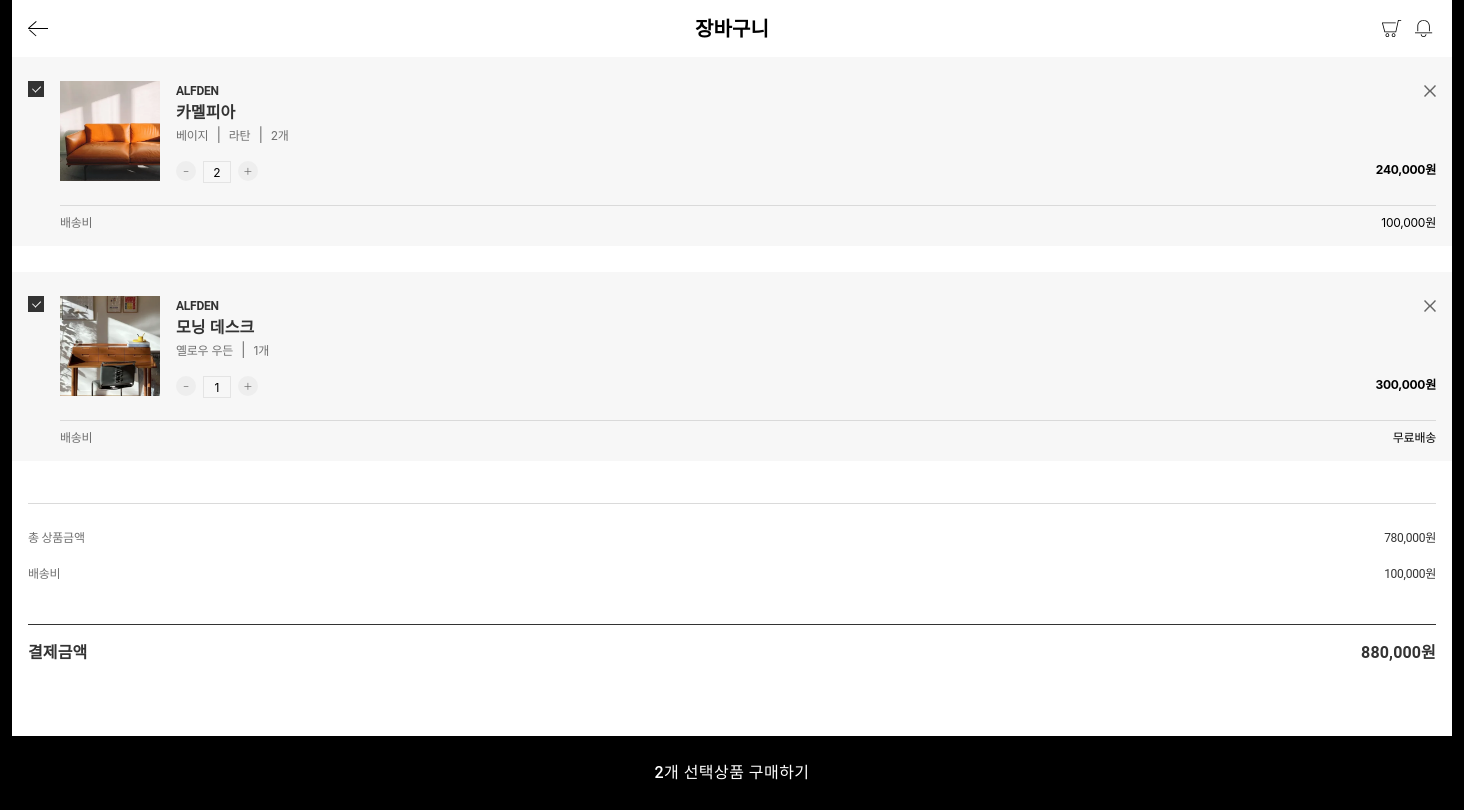
Scenario: 수량 + → 결제금액·수량 표시 갱신, 버튼 숫자는 종류 수 그대로
The image size is (1464, 810).
Click the button "+" in the row of "240,000" at (248, 171), box [238,161,258,181]
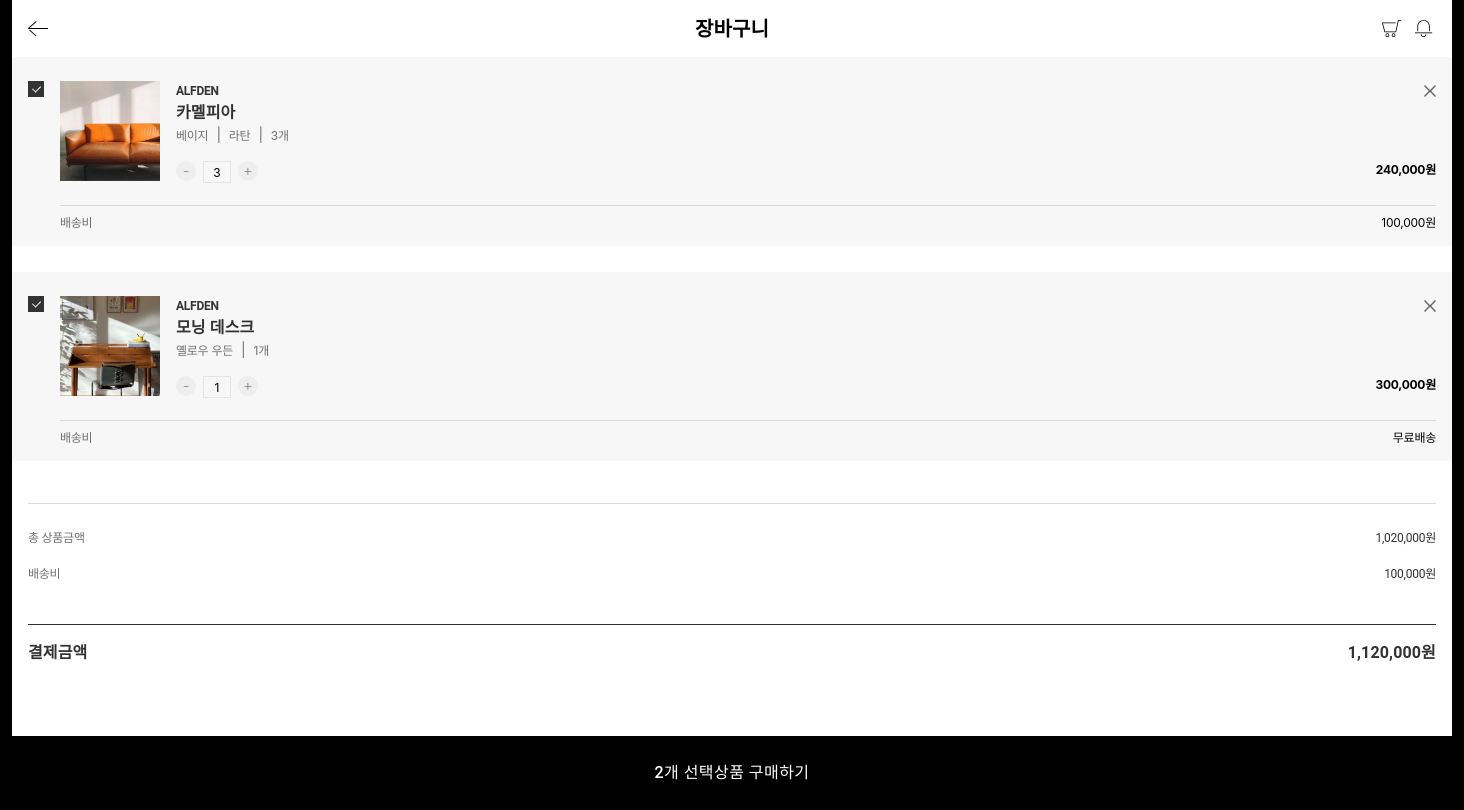
Expected: the button "2개 선택상품 구매하기" is shown, [12,736,1452,809]
Result: the text with test id "cart-total" reads "1,120,000원" at [1348,643,1436,662]
Result: the field named "카멜피아 수량" holds "3" at [203,161,231,183]
